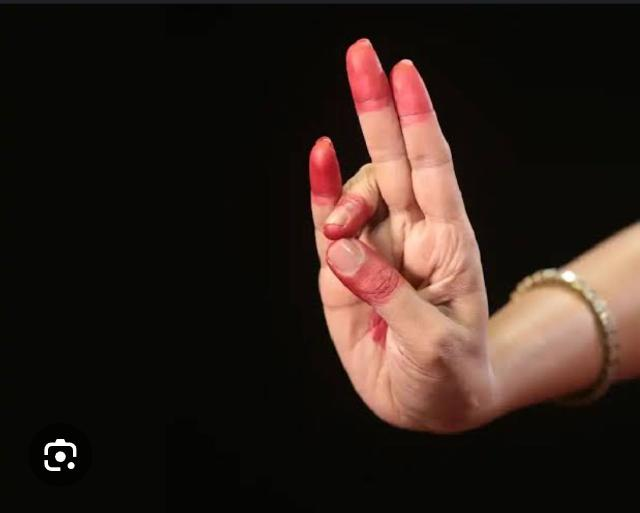mayur: (309, 40, 640, 437), (264, 31, 542, 484)
